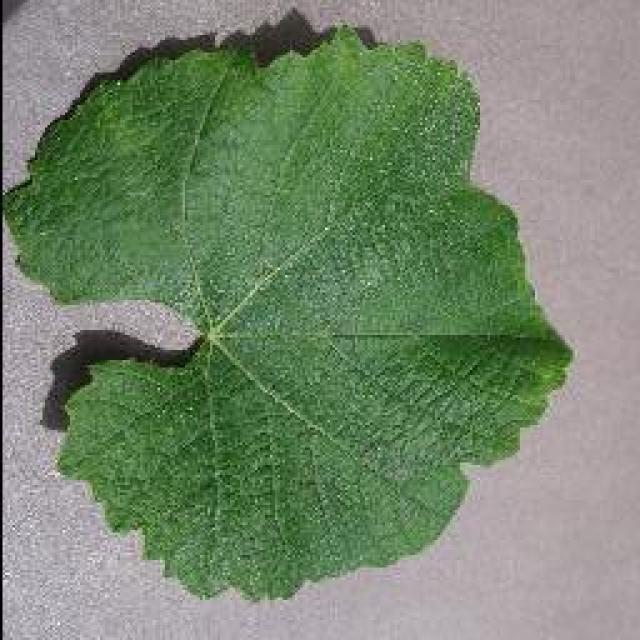Grape___healthy: (8, 28, 568, 595)
